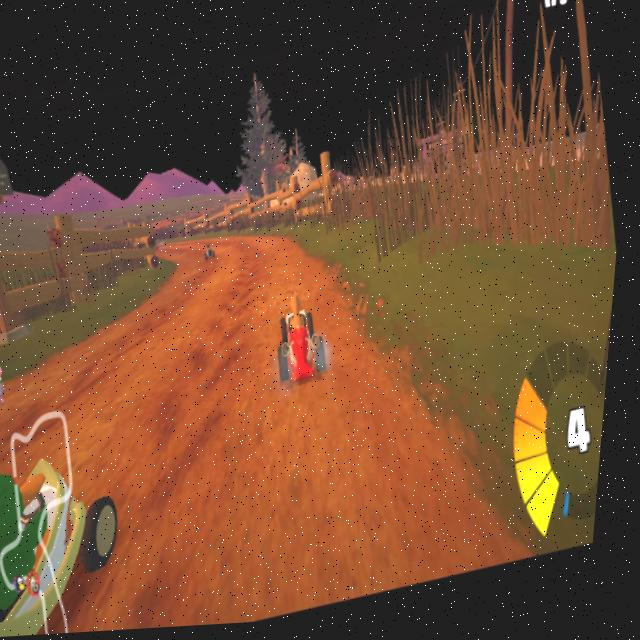enemy_kart: (198, 239, 227, 271)
off_track: (339, 137, 629, 359)
player_kart: (258, 277, 360, 405)
track: (155, 272, 285, 429), (228, 235, 280, 274)
